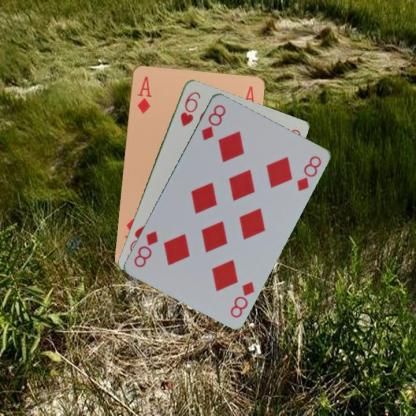6h: (177, 89, 202, 127)
8d: (198, 101, 227, 142), (228, 278, 255, 319)
Ad: (134, 73, 153, 115)
